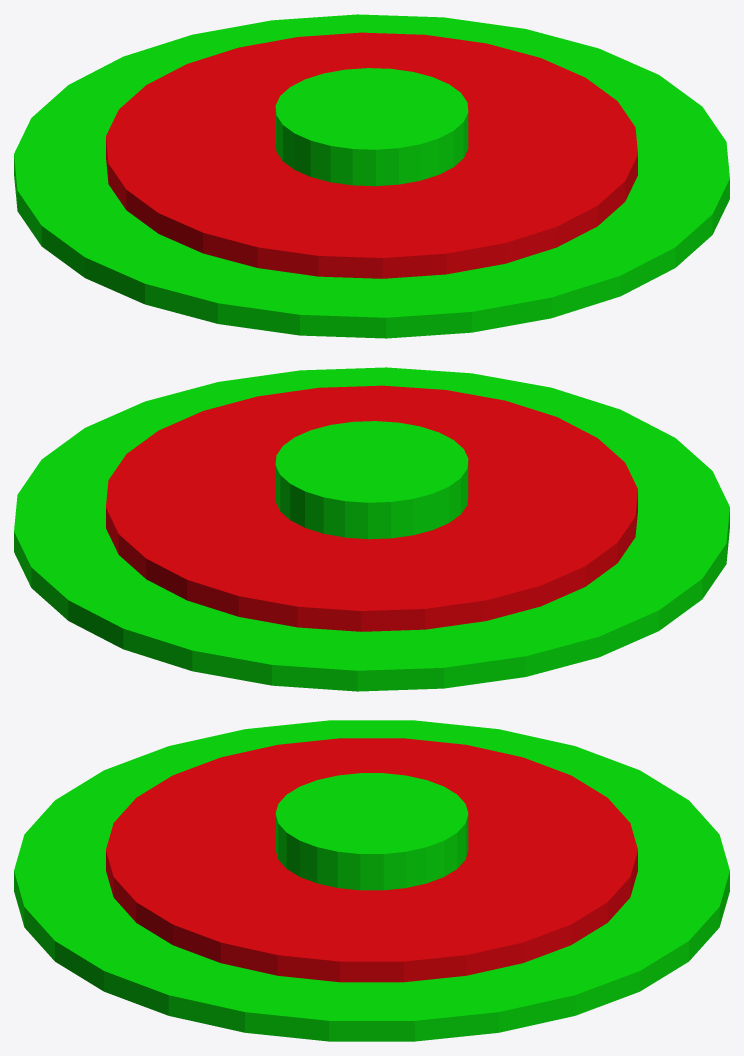
File: caesardiskAlpha_1.fbx
3 renders of one model, top to bottom at view 1: azimuth 30°, elevation 25°; view 2: azimuth 150°, elevation 25°; view 3: azimuth 270°, elevation 25°, orthographic.
Parts seen in each view (by area): view 1: Base, Rotation_Ring; view 2: Base, Rotation_Ring; view 3: Base, Rotation_Ring.
Part boxes in pixels (x1,y1,x2,y2): Base: [14, 14, 729, 338]; Rotation_Ring: [106, 32, 637, 278]; Base: [14, 367, 729, 691]; Rotation_Ring: [106, 385, 637, 631]; Base: [14, 720, 729, 1041]; Rotation_Ring: [106, 738, 637, 982].
Bounding box in the file's own units: 467 × 56.29 × 470.
